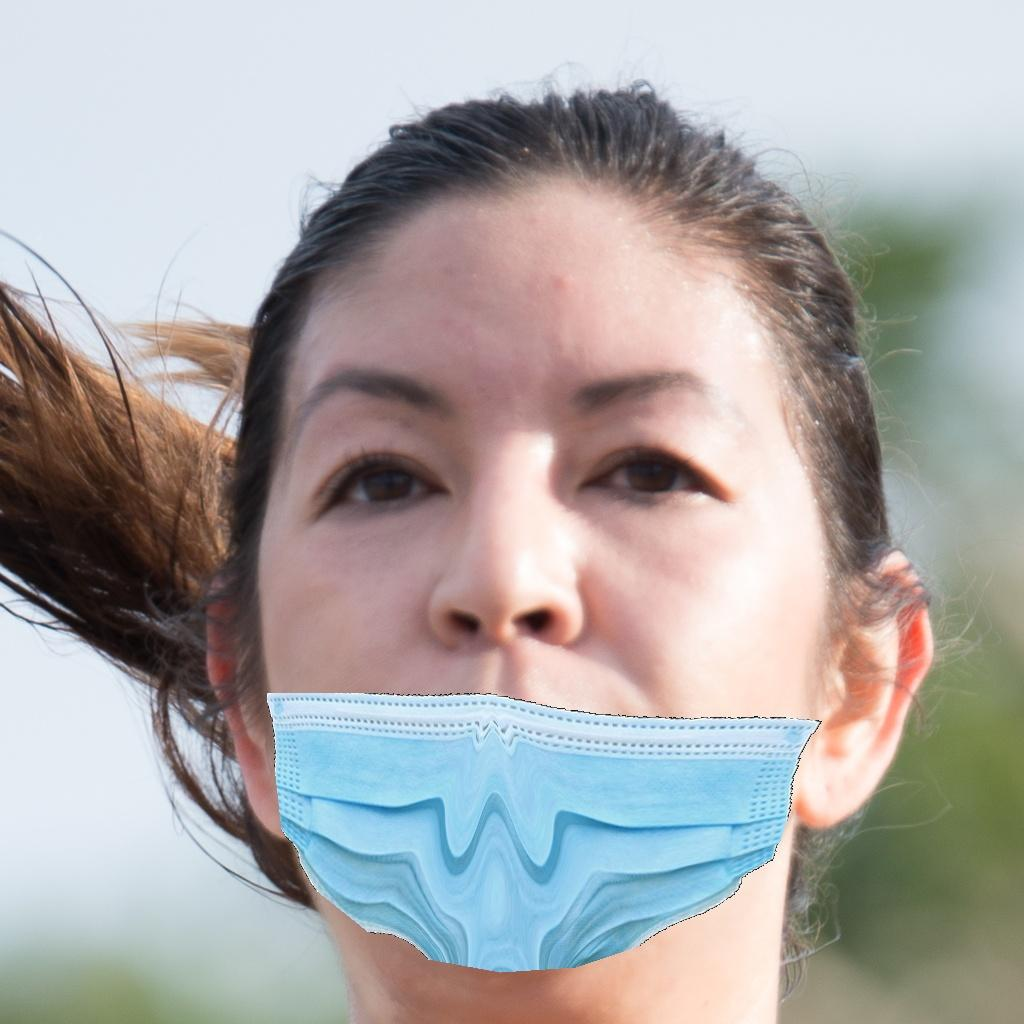Máscara Incorreta: (264, 307, 819, 973)
